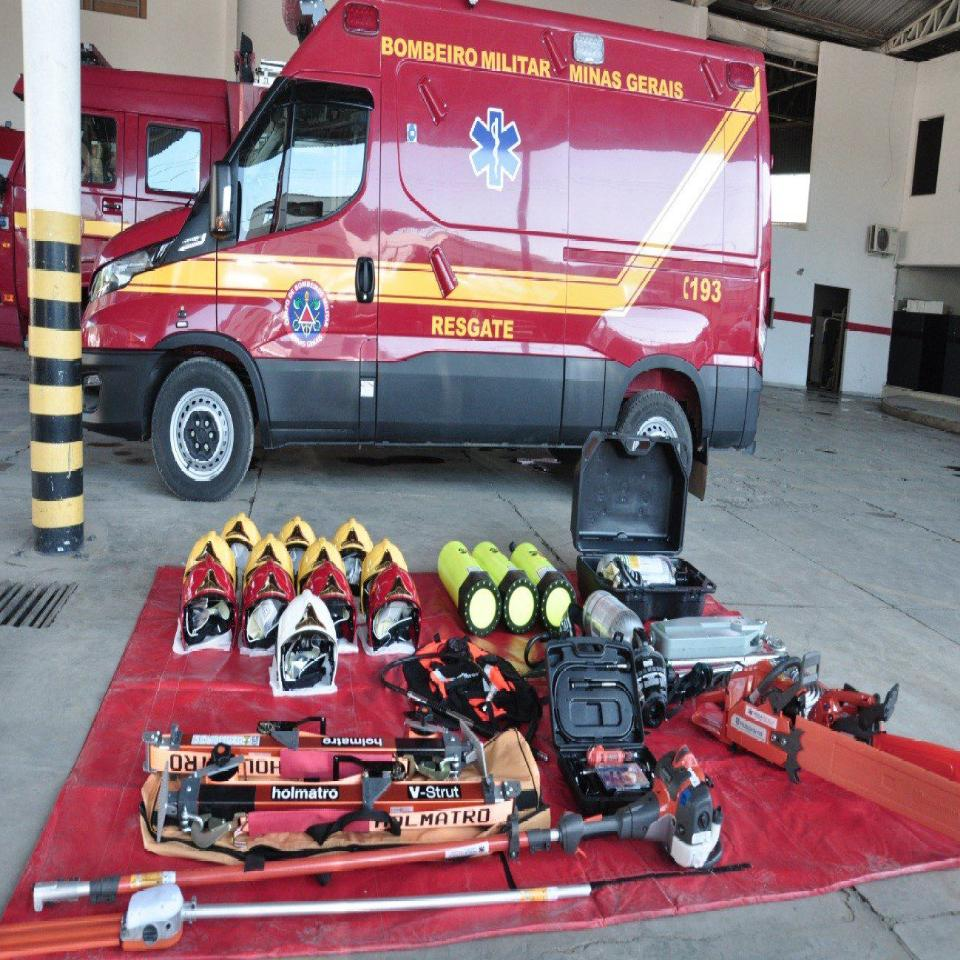viatura: (76, 0, 771, 501)
